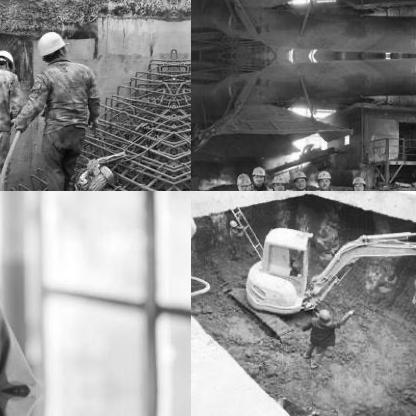Helmet: (34, 27, 68, 67), (0, 46, 16, 78), (290, 168, 308, 191), (267, 173, 287, 190), (315, 167, 331, 188), (348, 172, 366, 190), (235, 171, 251, 190), (316, 308, 332, 326), (250, 164, 264, 184), (228, 217, 238, 227)
